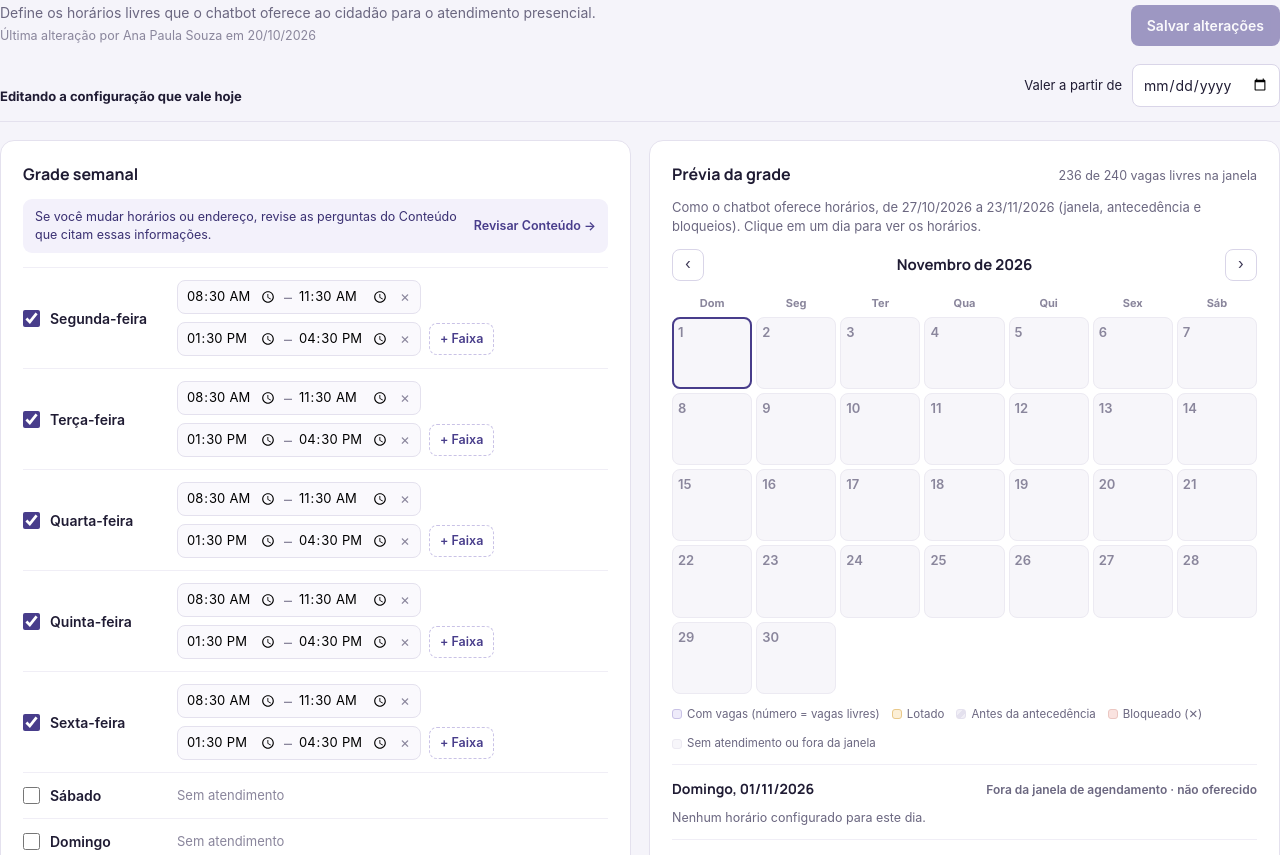
SchedulePage › edita a faixa, adiciona um bloqueio, salva o corpo completo e mostra o toast
Check: the checkbox labelled "Segunda-feira" is shown, box top-left (23, 310), bottom-right (40, 326)
Step 1. Replace the text in the time field named "Fim da faixa 1 de Segunda-feira" with "12:00" → (344, 297), box top-left (298, 286), bottom-right (390, 308)
(page scrolled)
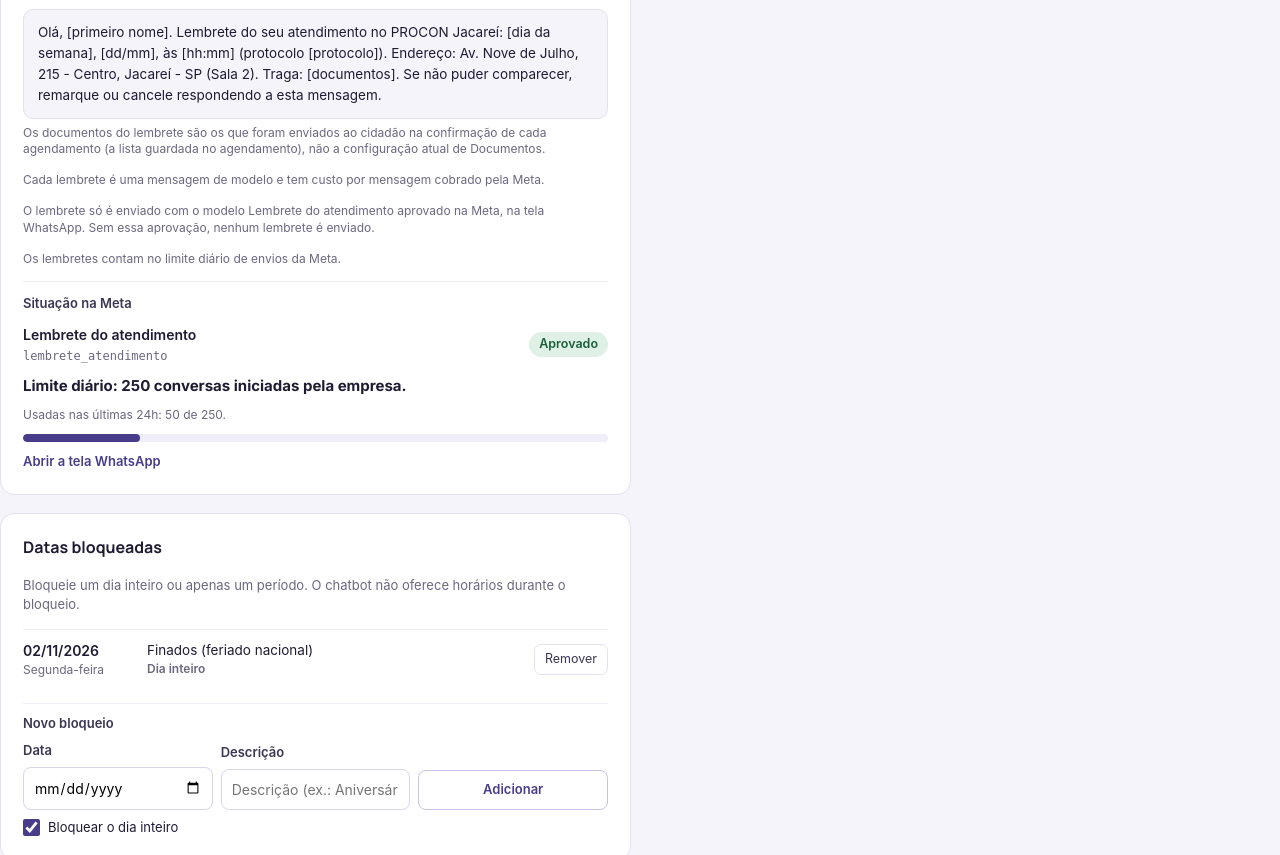
Step 2. Type "2026-11-20" into the date field labelled "Data" → (118, 788), box top-left (23, 767), bottom-right (213, 810)
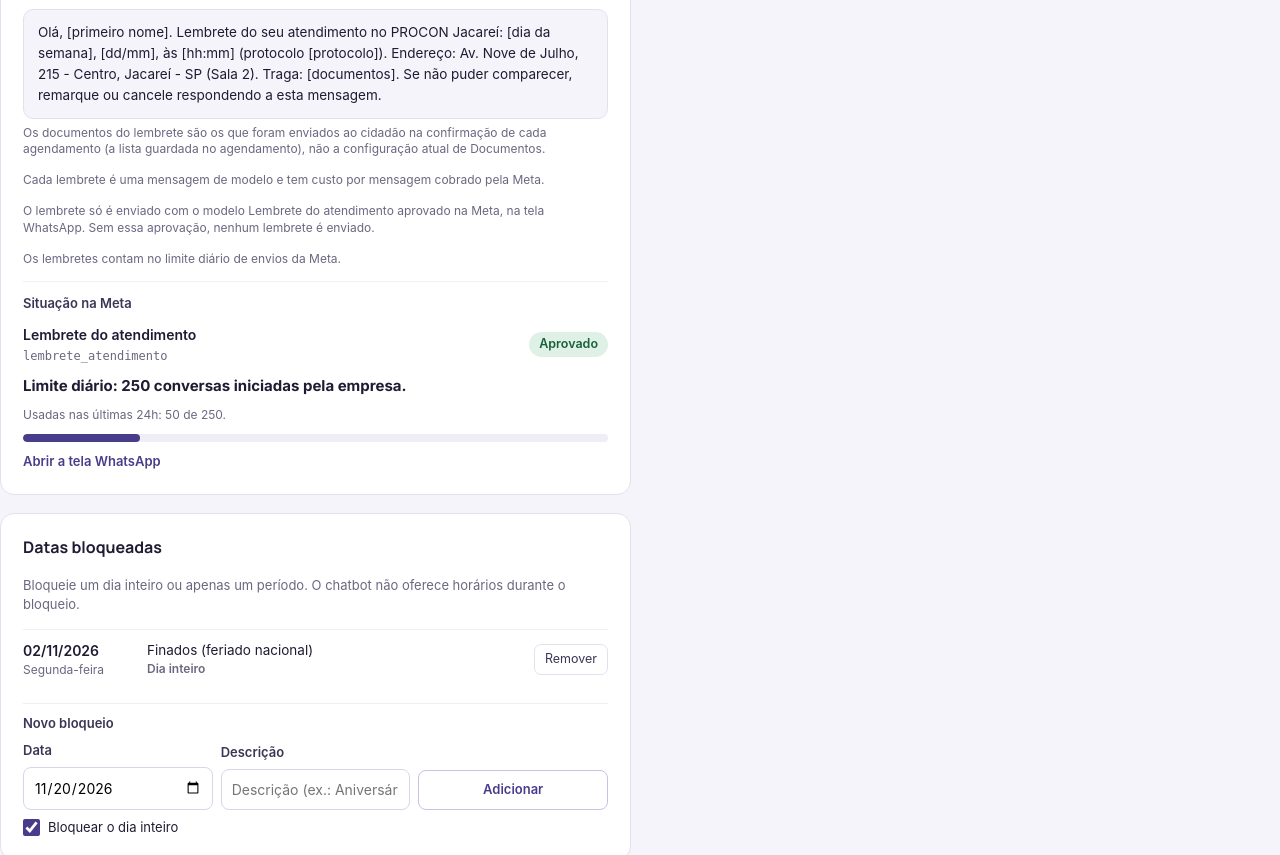
Step 3. Type "Consciência Negra" into the field labelled "Descrição" → (316, 789), box top-left (221, 769), bottom-right (410, 810)
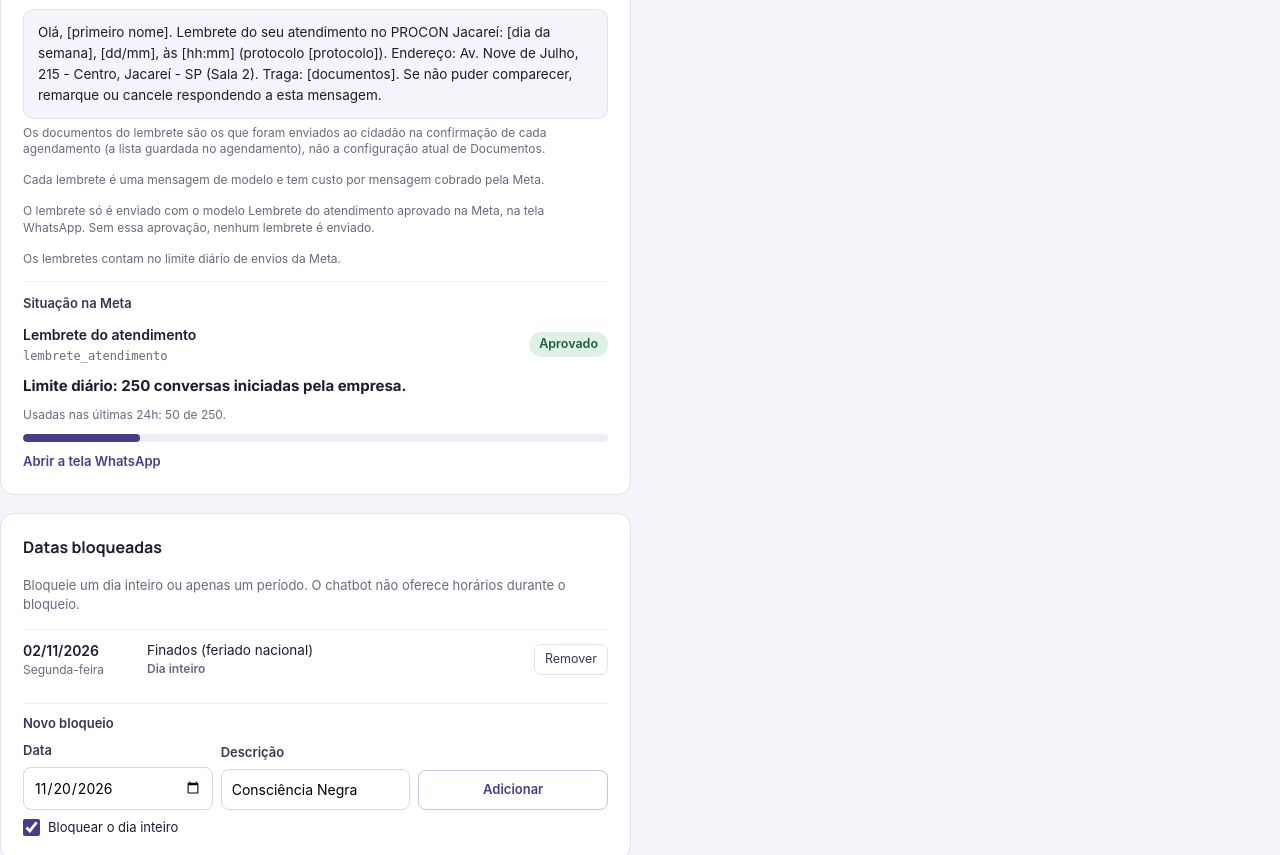
Step 4. Click the button "Adicionar" → (513, 790), box top-left (418, 770), bottom-right (608, 810)
(page scrolled)
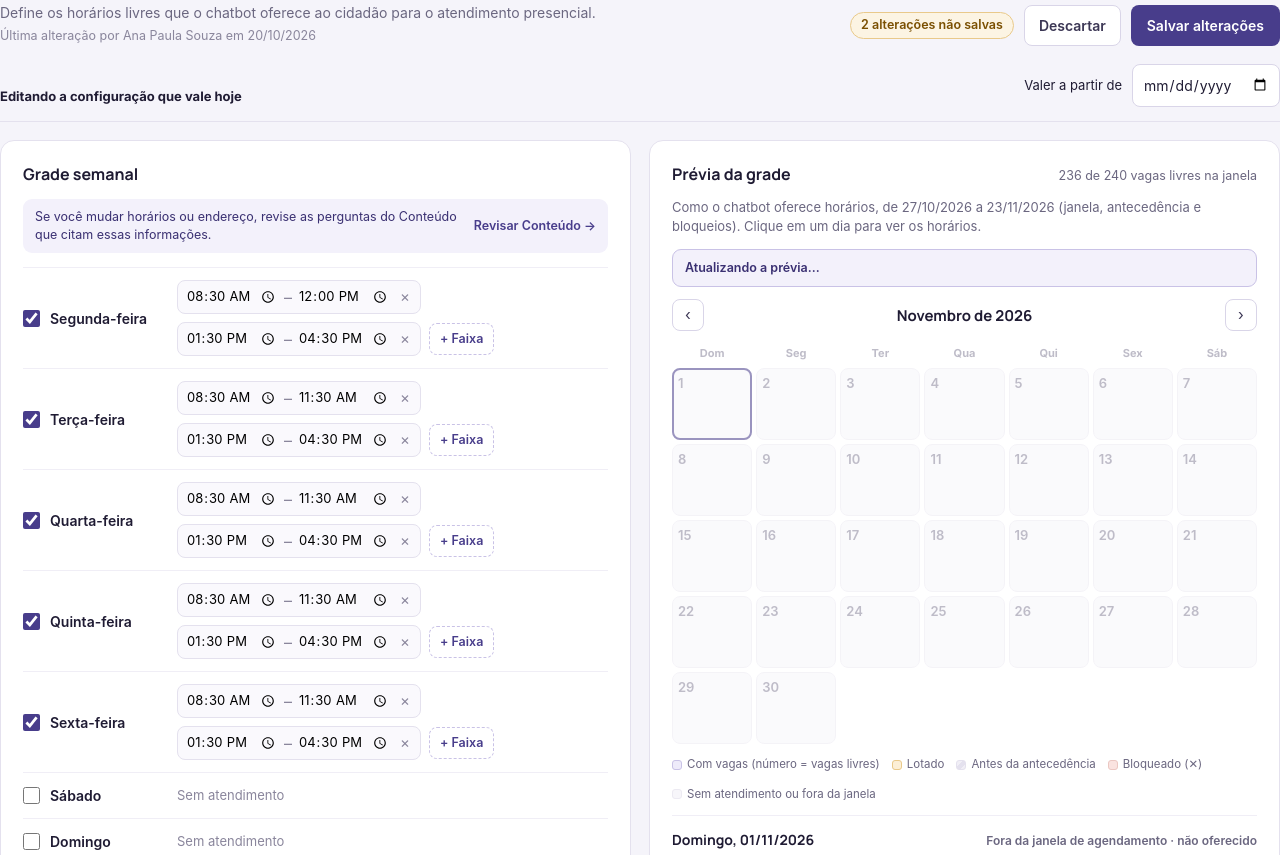
Check: the button "2 alterações não salvas" is shown, box top-left (850, 12), bottom-right (1014, 39)
Step 5. Click the button "Salvar alterações" → (1205, 25), box top-left (1131, 5), bottom-right (1279, 46)
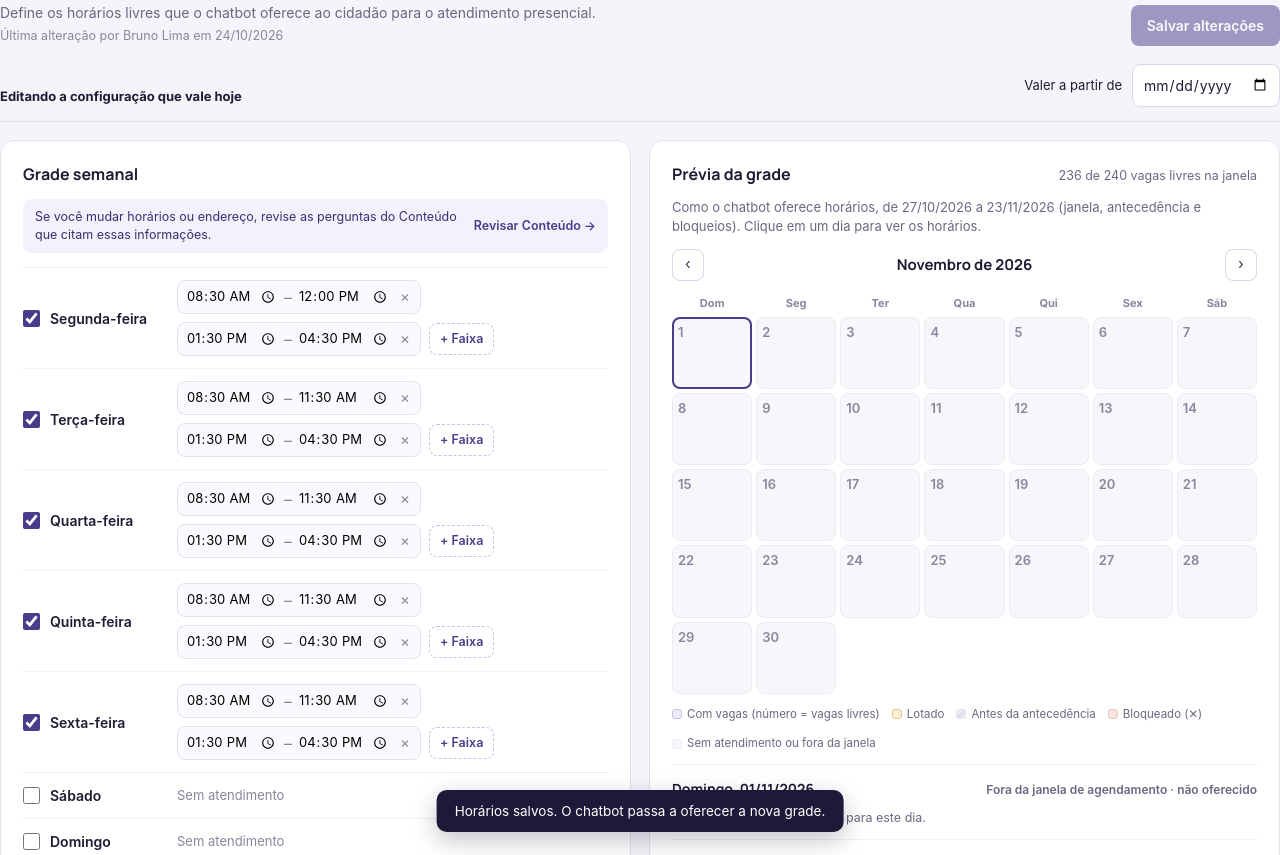
Check: the text "Horários salvos. O chatbot passa a oferecer a nova grade." is shown, box top-left (437, 790), bottom-right (843, 832)
Check: the text "Última alteração por Bruno Lima em 24/10/2026" is shown, box top-left (0, 28), bottom-right (283, 43)
Check: the button "2 alterações não salvas" is gone
